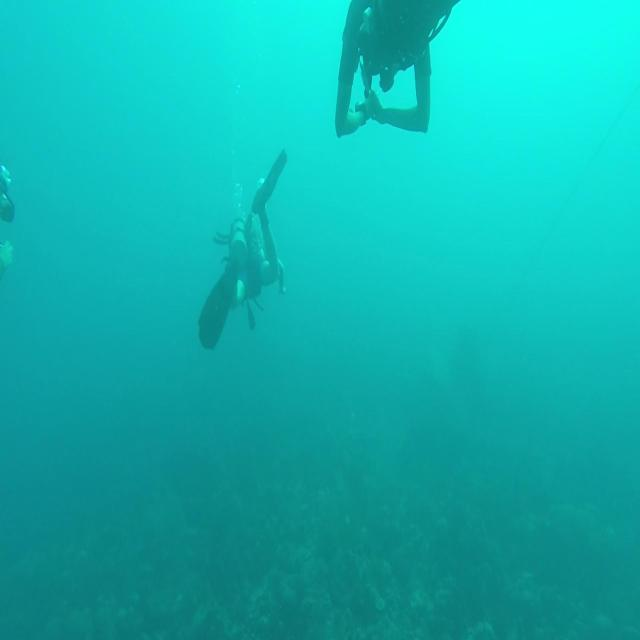human: (197, 147, 288, 350), (334, 0, 459, 137)
